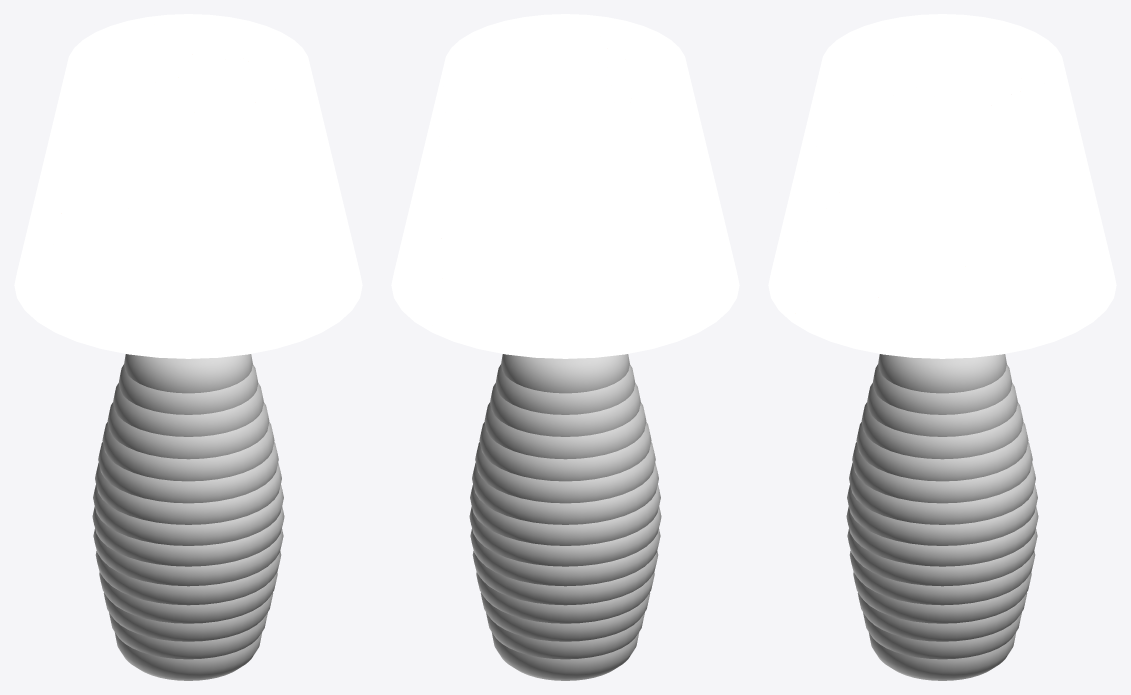
Rendered from TableLamp.glb.
3 renders of one model, left to right at view 1: azimuth 30°, elevation 25°; view 2: azimuth 150°, elevation 25°; view 3: azimuth 270°, elevation 25°, orthographic.
Parts seen in each view (by area): view 1: Şapka, Polyester, Ust_Tel; view 2: Şapka, Polyester, Ust_Tel; view 3: Şapka, Polyester, Ust_Tel.
Part boxes in pixels (left/top/right/bottom): Şapka: left=14, top=14, right=362, bottom=358; Polyester: left=92, top=354, right=284, bottom=680; Ust_Tel: left=68, top=15, right=308, bottom=116; Şapka: left=391, top=14, right=739, bottom=358; Polyester: left=469, top=354, right=661, bottom=680; Ust_Tel: left=445, top=15, right=685, bottom=116; Şapka: left=768, top=14, right=1116, bottom=358; Polyester: left=846, top=354, right=1038, bottom=680; Ust_Tel: left=822, top=15, right=1062, bottom=116.
Bounding box in the file's own units: 0.33 × 0.6215 × 0.33.
Materials: 2 (1 with a texture image).
